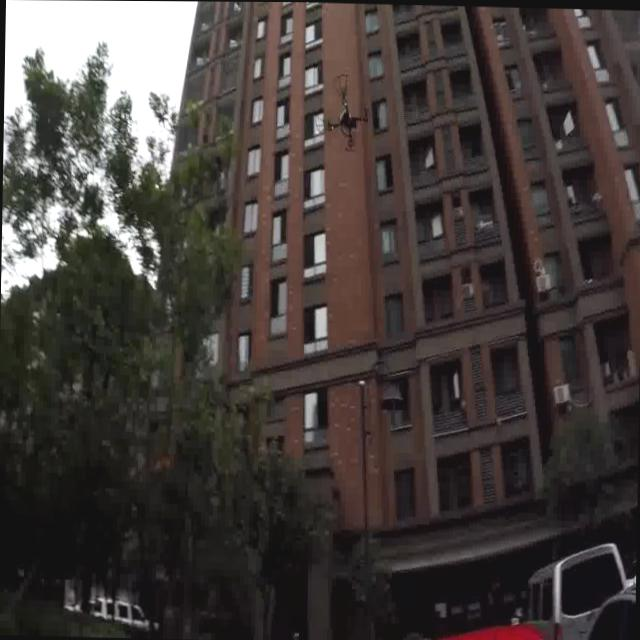drone: (312, 66, 371, 154)
